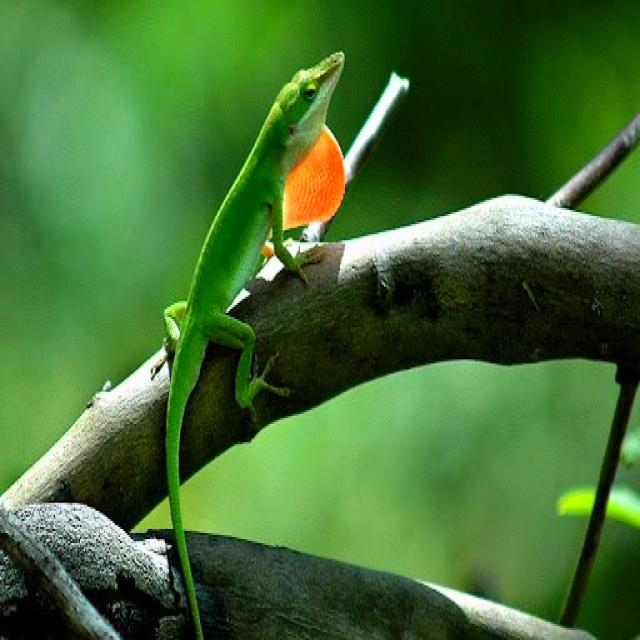lizard: (151, 52, 344, 638)
